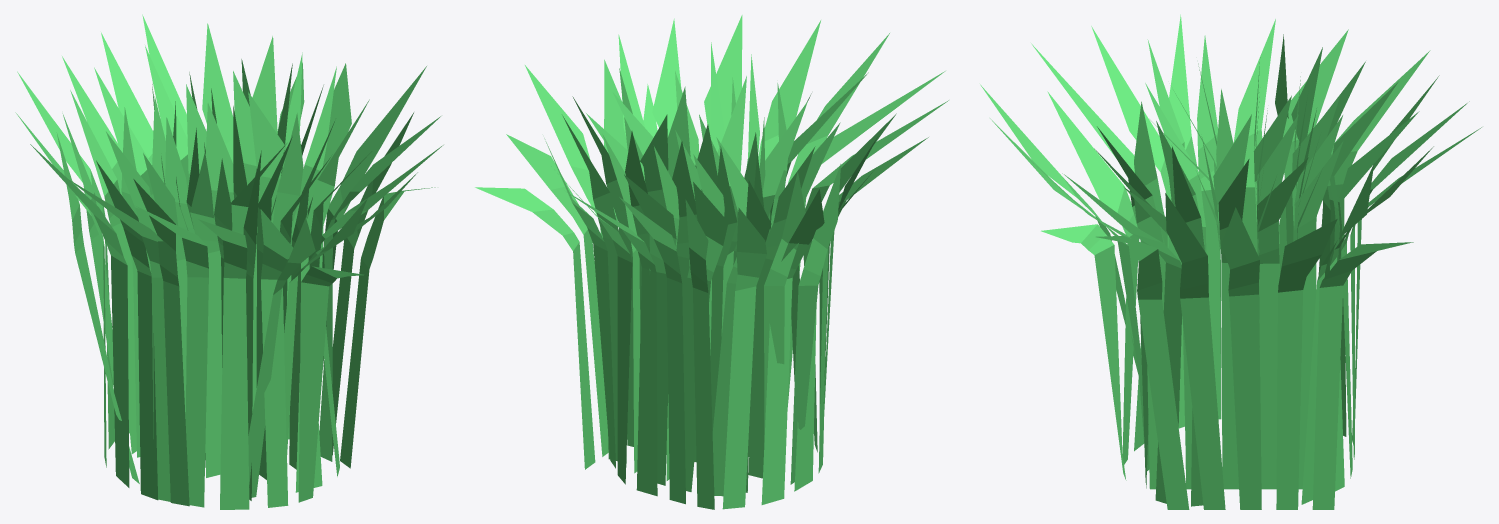
The model's file is StraightGrass.glb.
The picture shows the model from 3 angles, left to right: view 1: azimuth 30°, elevation 25°; view 2: azimuth 150°, elevation 25°; view 3: azimuth 270°, elevation 25°; orthographic projection. The views are drawn at different scales.
Visible parts, largest first — view 1: Straight Grass; view 2: Straight Grass; view 3: Straight Grass.
Part boxes in pixels (x1,y1,x2,y2): Straight Grass: (15, 14, 443, 509); Straight Grass: (475, 15, 948, 509); Straight Grass: (980, 14, 1481, 509).
Size of the model in its own units: 2.35 by 2.04 by 2.61.
